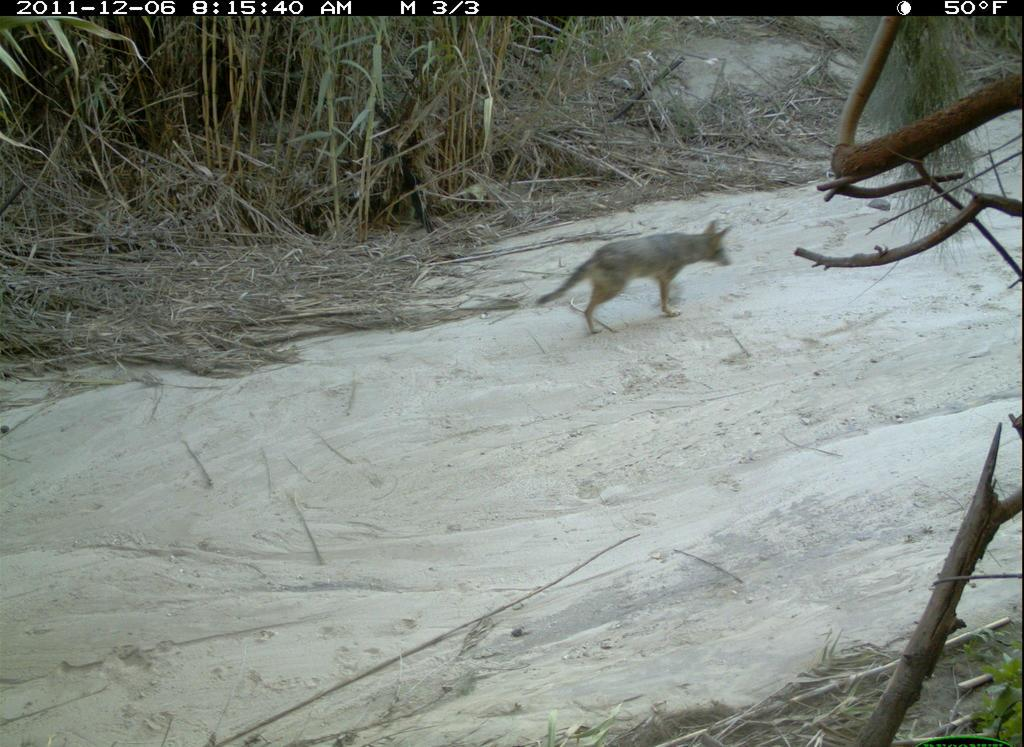coyote: (528, 210, 739, 341)
